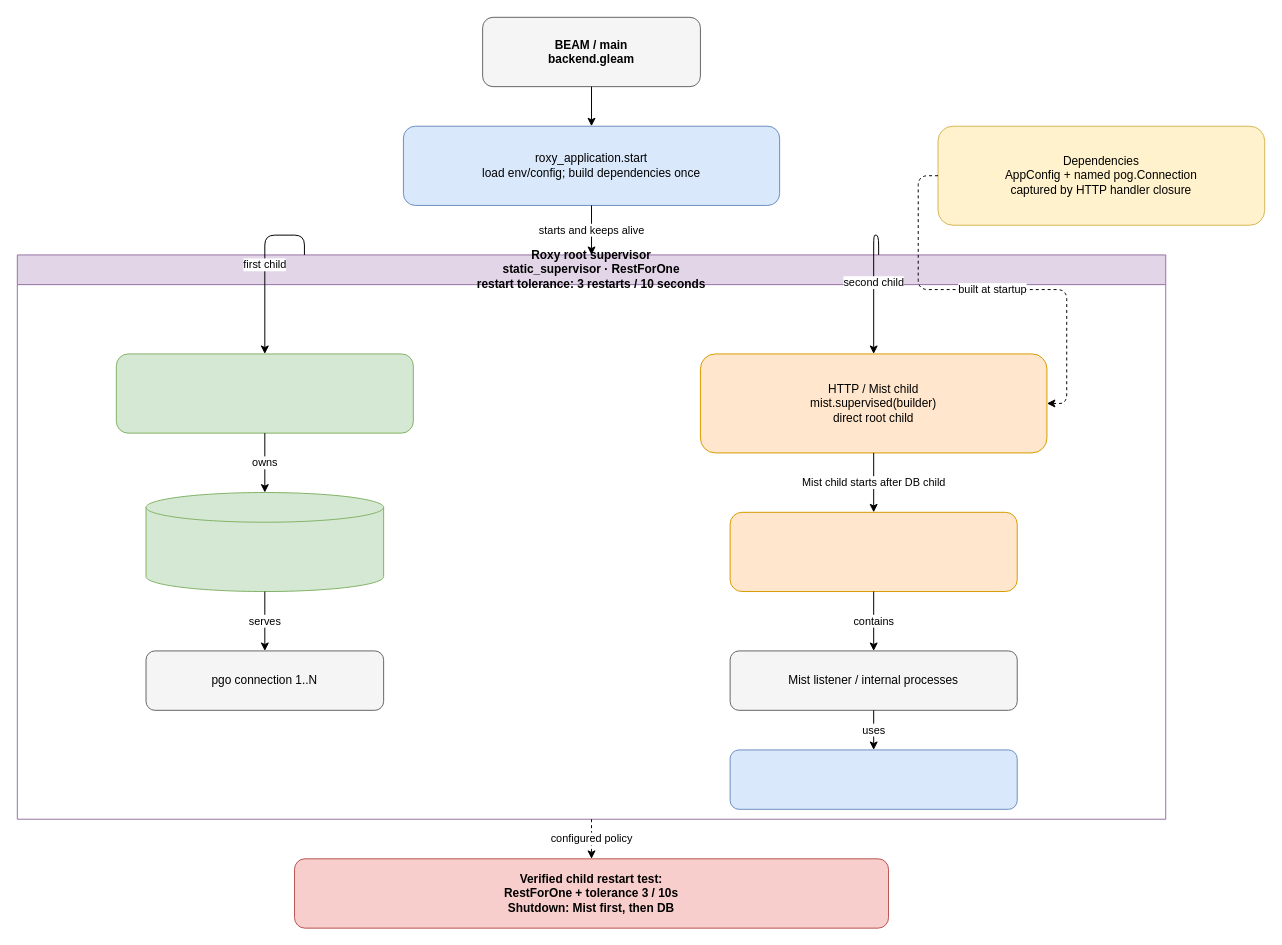
Image size: 1282x945. Some labels were removed from this diagram. The centre of each missing label's shape, as x and y in pixels:
Mist internal supervisor mist.start(builder): [873,551]
PostgreSQL pool child pog.supervised(pool_config): [264,393]
PostgreSQL pool supervisor pgo connections: [264,542]
Wisp handler router → handlers: [873,779]
